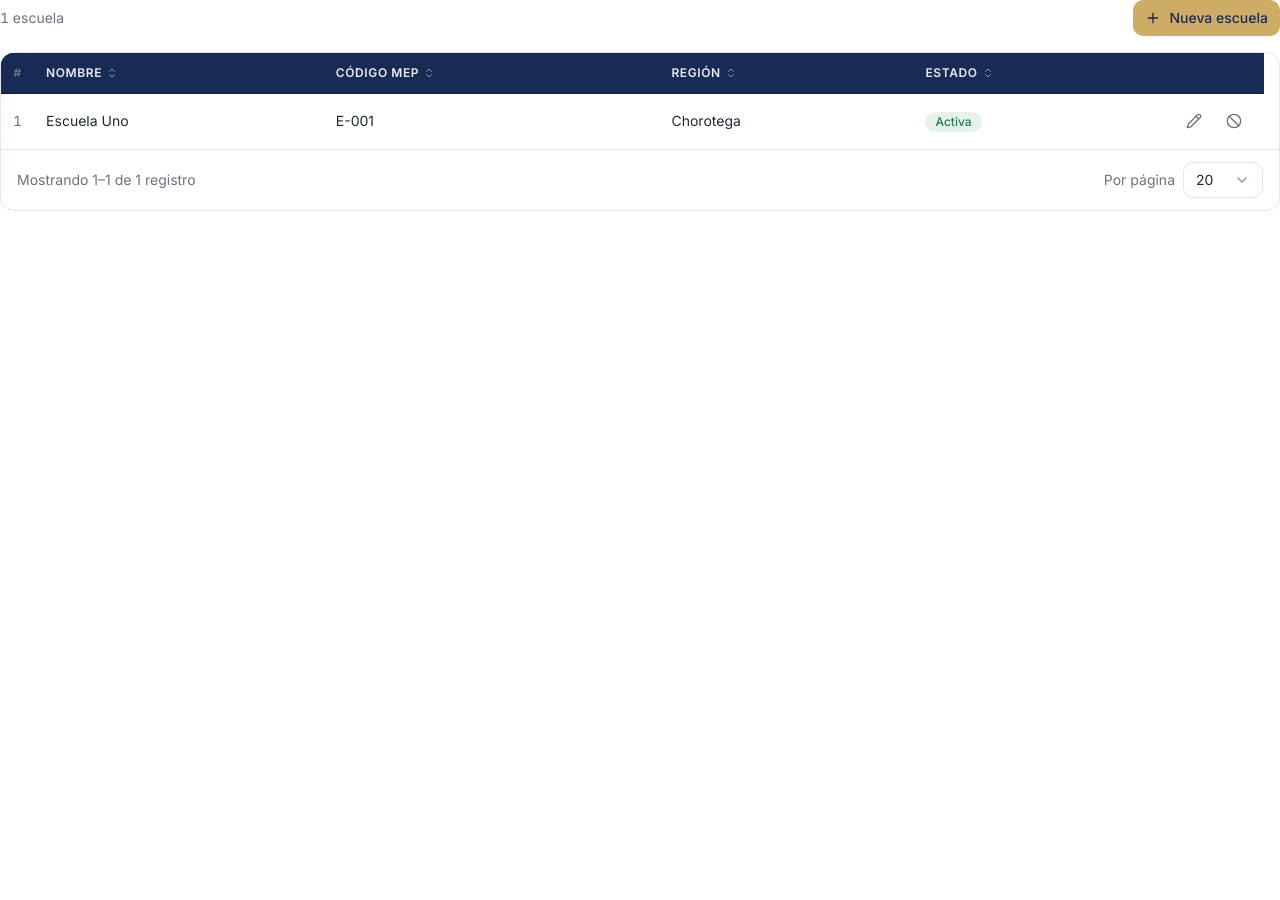
Test case: GestionEscuelas › edita nombre y código MEP, refresca la lista y cierra el modal
This screenshot has width=1280, height=900.
Click the button named "Editar": point(1194, 121) [1176, 103, 1212, 139]
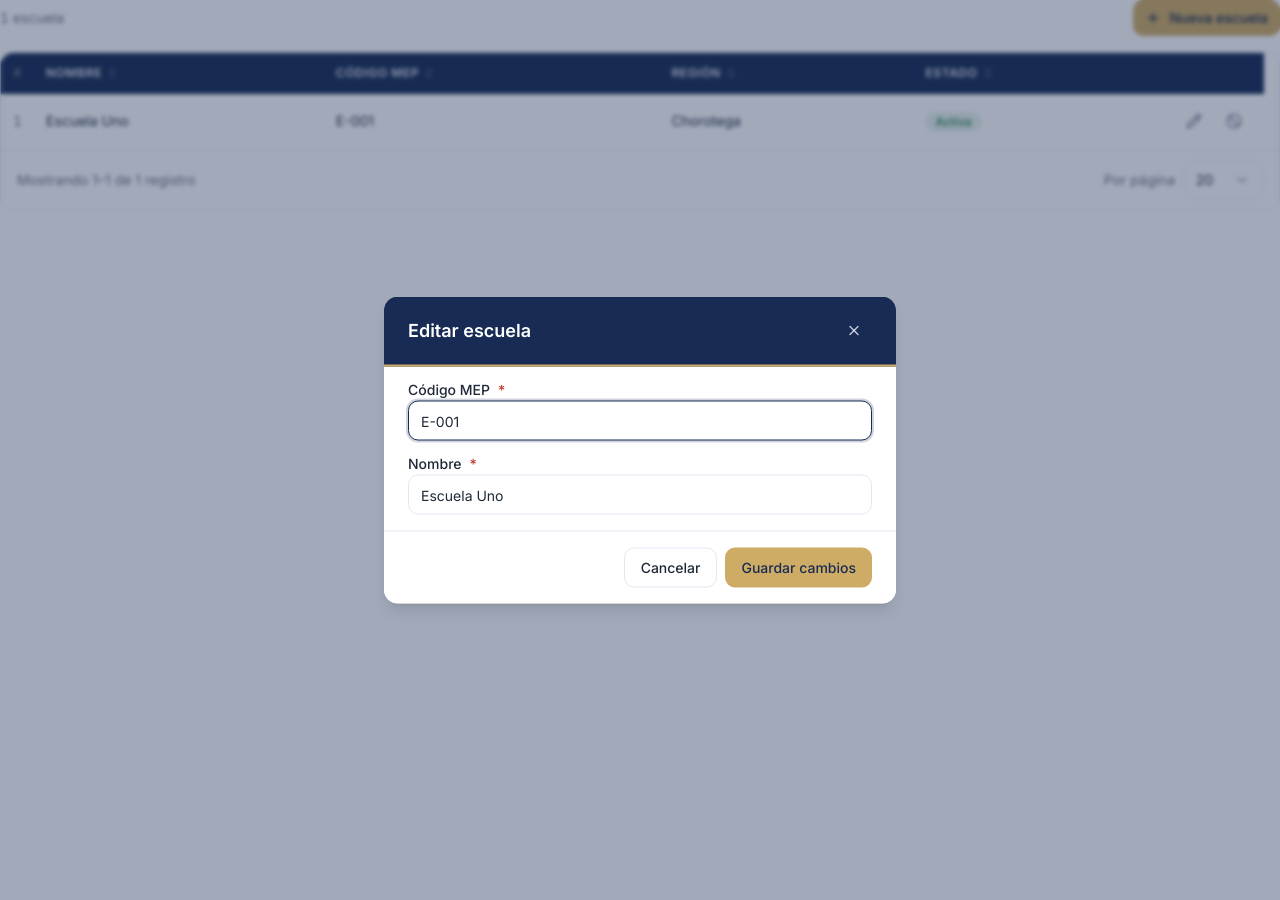
Check: the field labelled "Código MEP *" holds "E-001"
Check: the field labelled "Nombre *" holds "Escuela Uno", box [408, 474, 872, 514]
Replace the text in the field labelled "Código MEP *" with "E-010": point(640, 420) [408, 400, 872, 440]
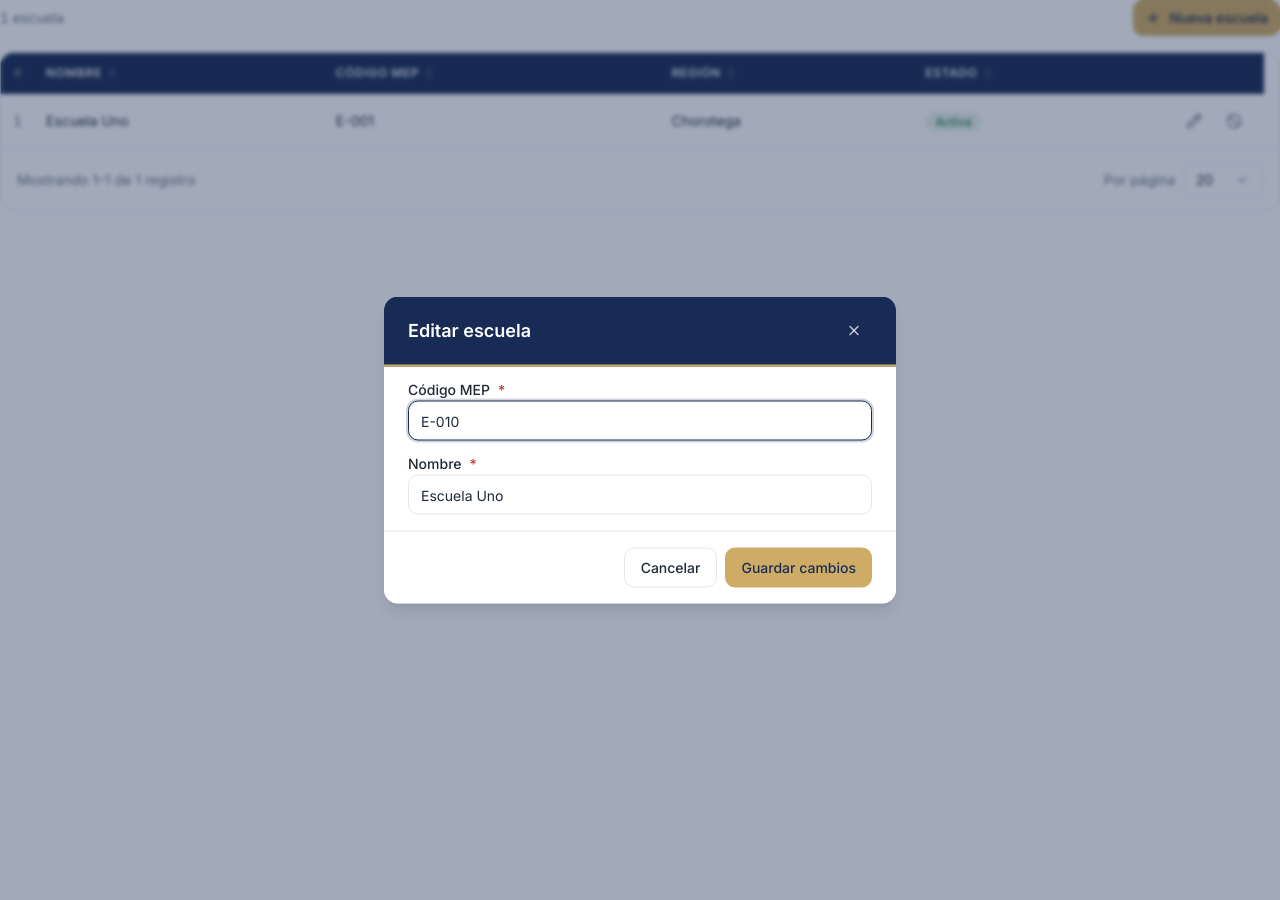
Replace the text in the field labelled "Nombre *" with "Escuela Renombrada": point(640, 494) [408, 474, 872, 514]
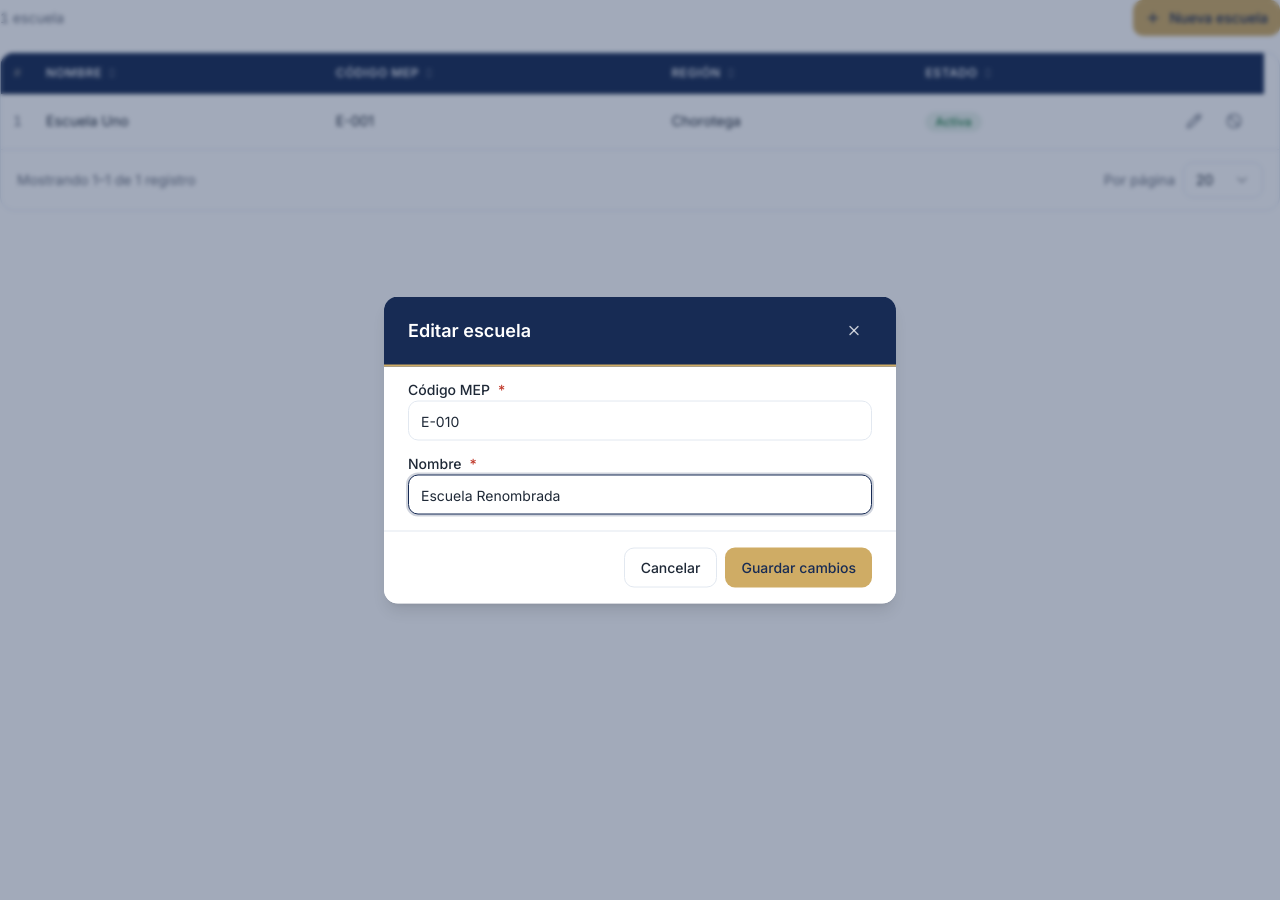
Click the button "Guardar cambios": point(799, 568) [726, 548, 872, 588]
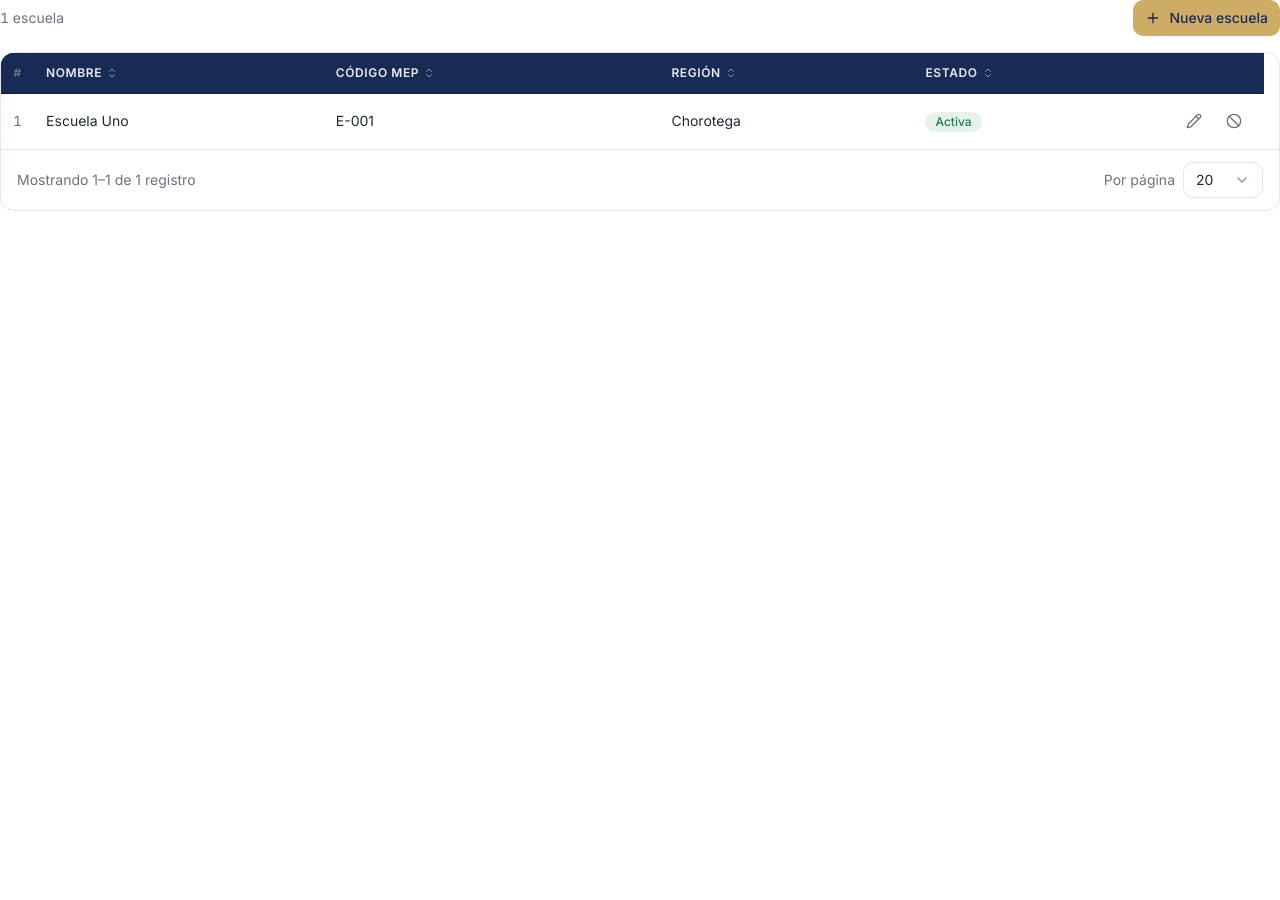
Check: the dialog is gone
